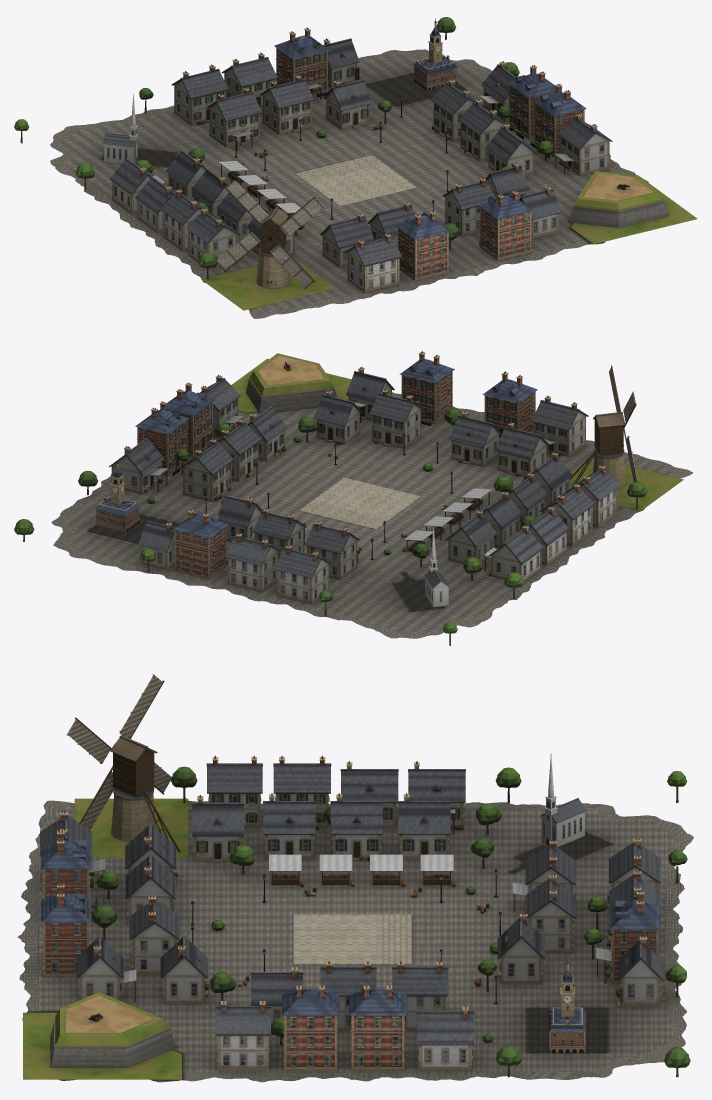
File: gunpowder-town-big-b-colonies.glb
The picture shows the model from 3 angles, top to bottom: view 1: azimuth 30°, elevation 25°; view 2: azimuth 150°, elevation 25°; view 3: azimuth 270°, elevation 25°; orthographic projection. The views are drawn at different scales.
Visible parts, largest first — view 1: LOD0; view 2: LOD0; view 3: LOD0.
Boxes of the visible parts, x1,y1,x2,y2 form: LOD0: (14,17,697,318); LOD0: (14,351,692,645); LOD0: (17,674,693,1082).
Size of what is drawn, in the model's own units: 8.05 by 1.84 by 8.12.
3 materials, 3 textured.
